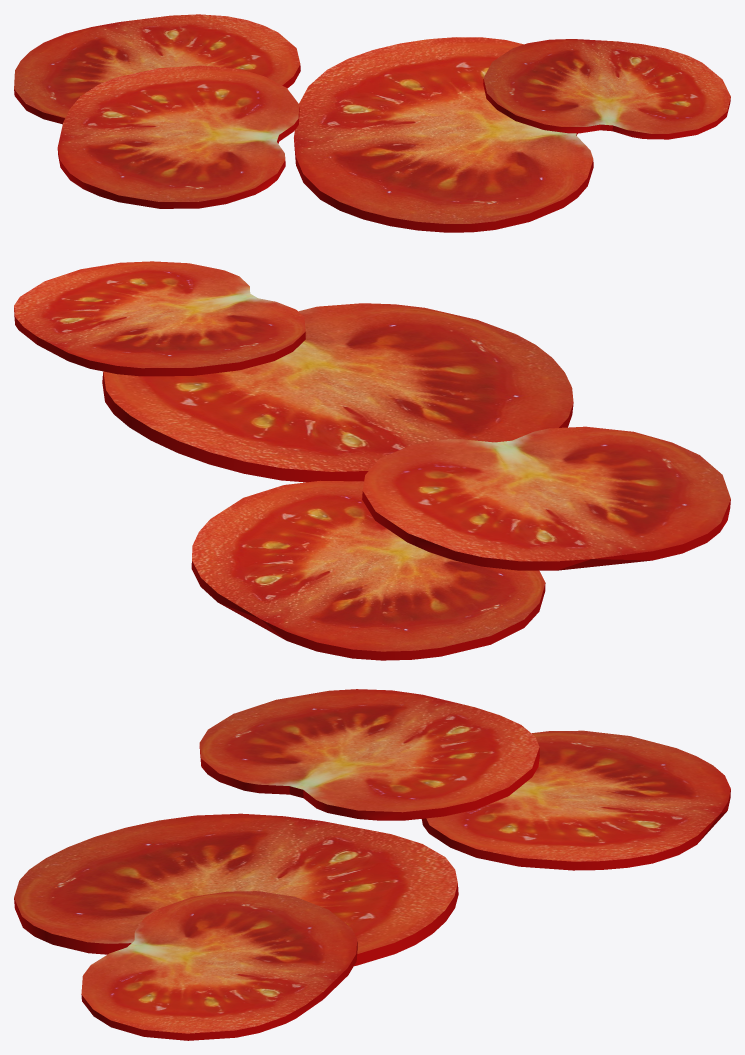
The model's file is Tomato.FBX.
The picture shows the model from 3 angles, top to bottom: view 1: azimuth 30°, elevation 25°; view 2: azimuth 150°, elevation 25°; view 3: azimuth 270°, elevation 25°; orthographic projection. The views are drawn at different scales.
Parts seen in each view (by area): view 1: tomato; view 2: tomato; view 3: tomato.
Boxes of the visible parts, x1,y1,x2,y2 form: tomato: (14, 14, 730, 232); tomato: (14, 261, 730, 660); tomato: (14, 689, 730, 1040).
Bounding box in the file's own units: 8.86 × 0.6746 × 7.72.
Materials: 2 (1 with a texture image).
